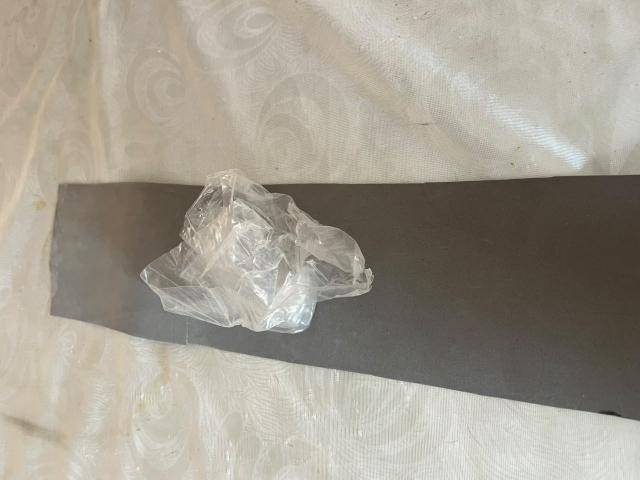LDPE: (145, 153, 401, 409)
